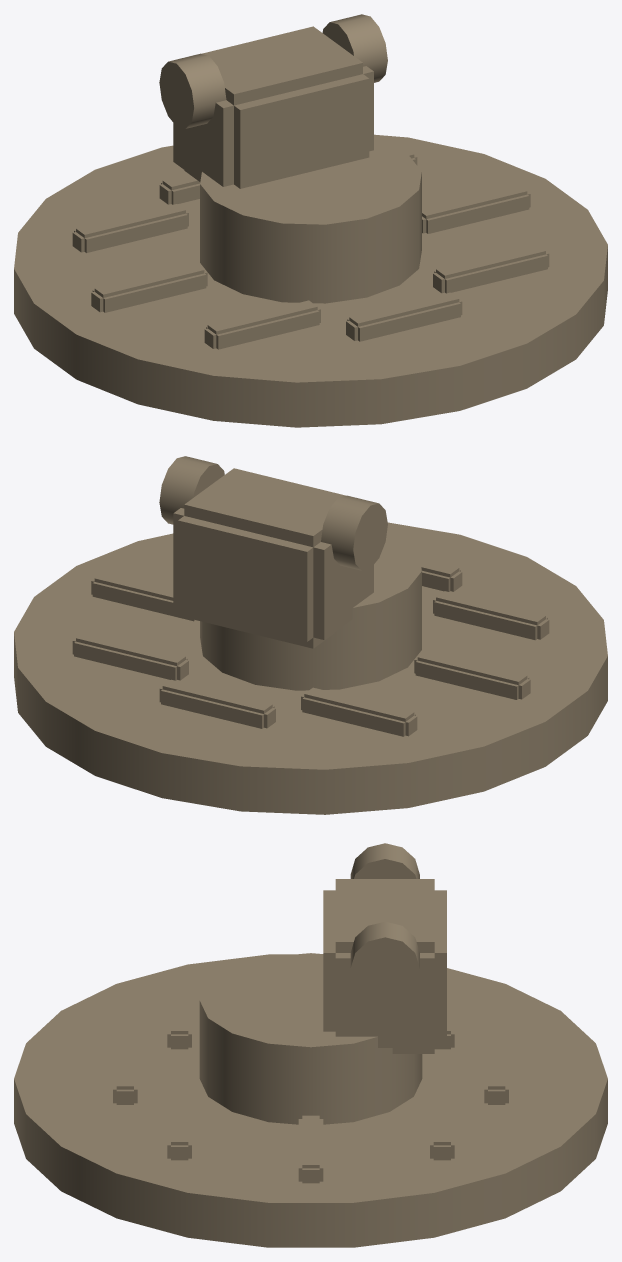
The model's file is napalm_mount.glb.
3 views of the same model, one above another, from view 1: azimuth 30°, elevation 25°; view 2: azimuth 150°, elevation 25°; view 3: azimuth 270°, elevation 25° (orthographic).
Visible parts, largest first — view 1: napalm_mount; view 2: napalm_mount; view 3: napalm_mount.
Part boxes in pixels (<box>): napalm_mount: <box>14,14,607,427</box>; napalm_mount: <box>14,456,607,814</box>; napalm_mount: <box>14,843,607,1247</box>.
Size of the model in its own units: 0.4751 by 0.208 by 0.48.
